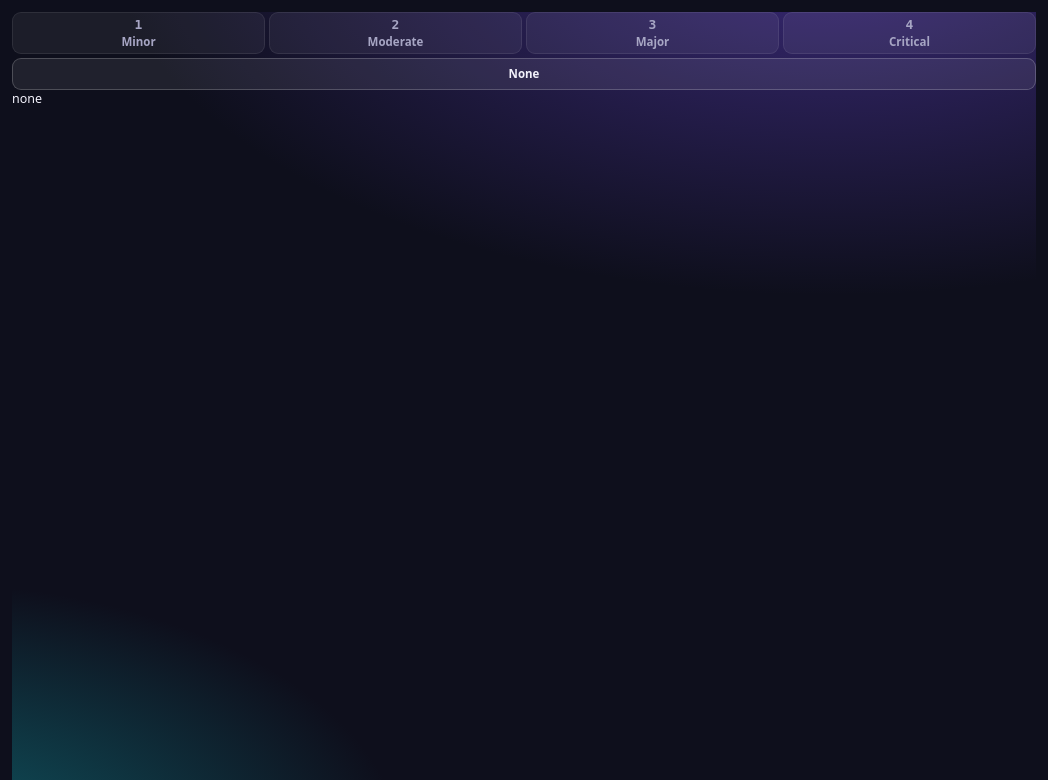
SeverityPicker › chooses by click and arrow, and None clears when allowed
Step 1. Click the radio button labelled "2 Moderate" → (396, 33), box [269,12,522,54]
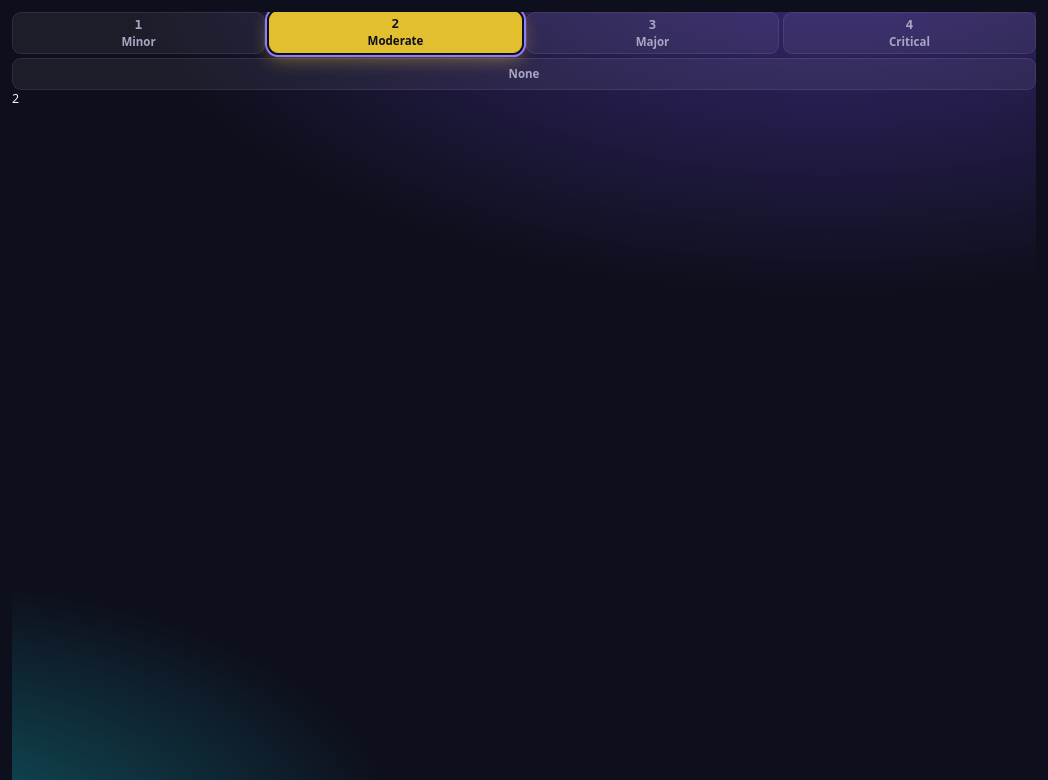
Step 2. Press ArrowRight in the radio button labelled "2 Moderate", box [269,11,522,53]
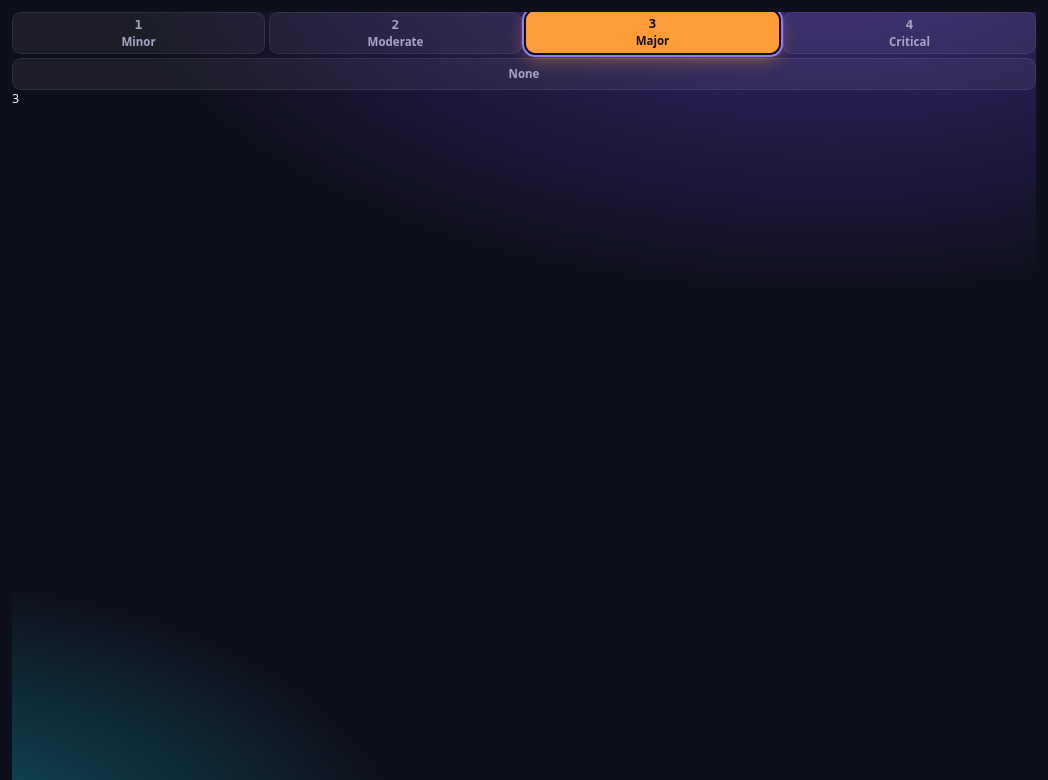
Result: the text with test id "value" reads "3" at [12,90,19,107]
Step 3. Click the radio button labelled "None" → (524, 74), box [12,58,1036,90]
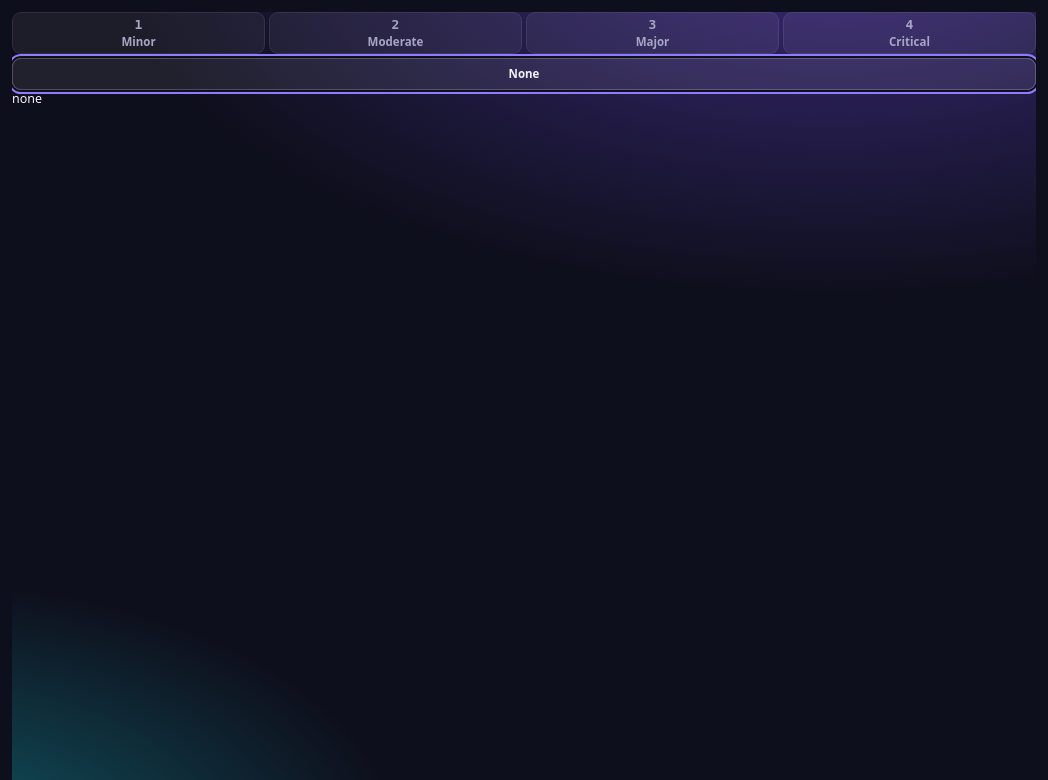
Result: the text with test id "value" reads "none" at [12,90,42,107]
